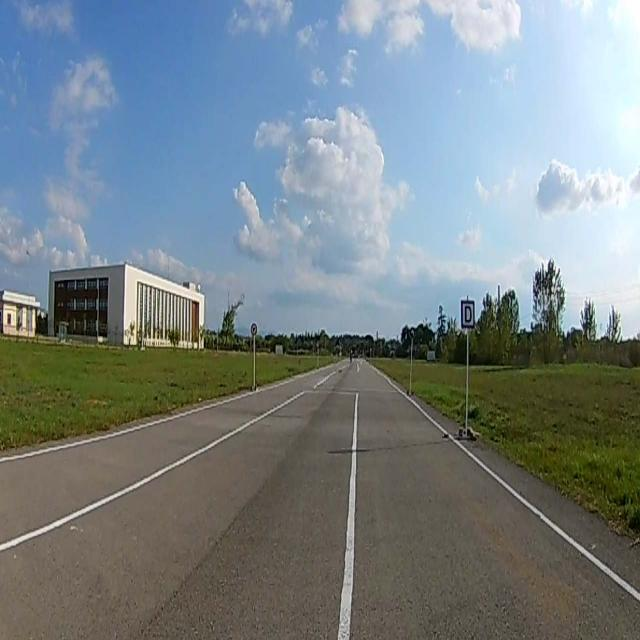durak: (461, 299, 475, 329)
